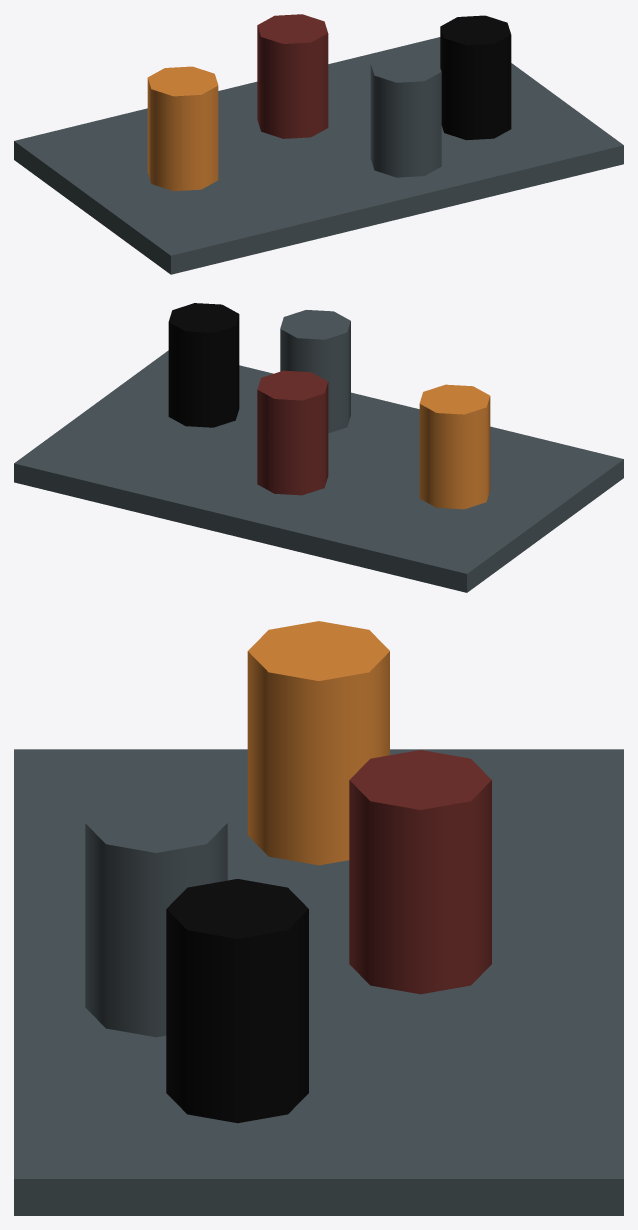
File: cantina_drink_props.glb
3 views of the same model, one above another, from view 1: azimuth 30°, elevation 25°; view 2: azimuth 150°, elevation 25°; view 3: azimuth 270°, elevation 25° (orthographic). The views are drawn at different scales.
Visible parts, largest first — view 1: sw5e_int_cantina_drink_props; view 2: sw5e_int_cantina_drink_props; view 3: sw5e_int_cantina_drink_props.
Part boxes in pixels (x1,y1,x2,y2): sw5e_int_cantina_drink_props: (14,14,623,274); sw5e_int_cantina_drink_props: (14,303,623,592); sw5e_int_cantina_drink_props: (14,621,623,1215).
Size of the model in its own units: 0.5 by 0.12 by 0.3.
